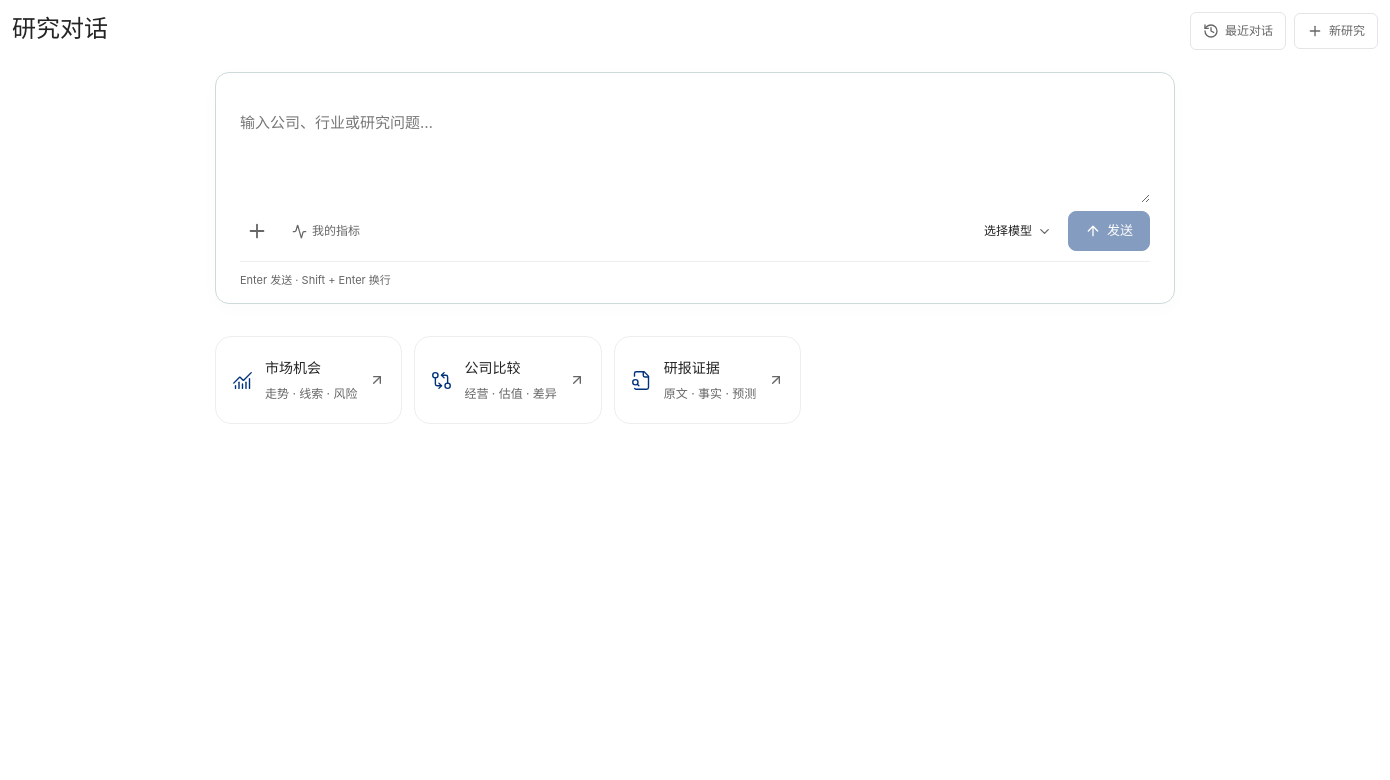
Scenario: keeps a new research conversation renderable after a metadata-only create when processing succeeded
In the text box named "研究要求": [695, 148] box [240,93,1150,203], type "核验公告来源"
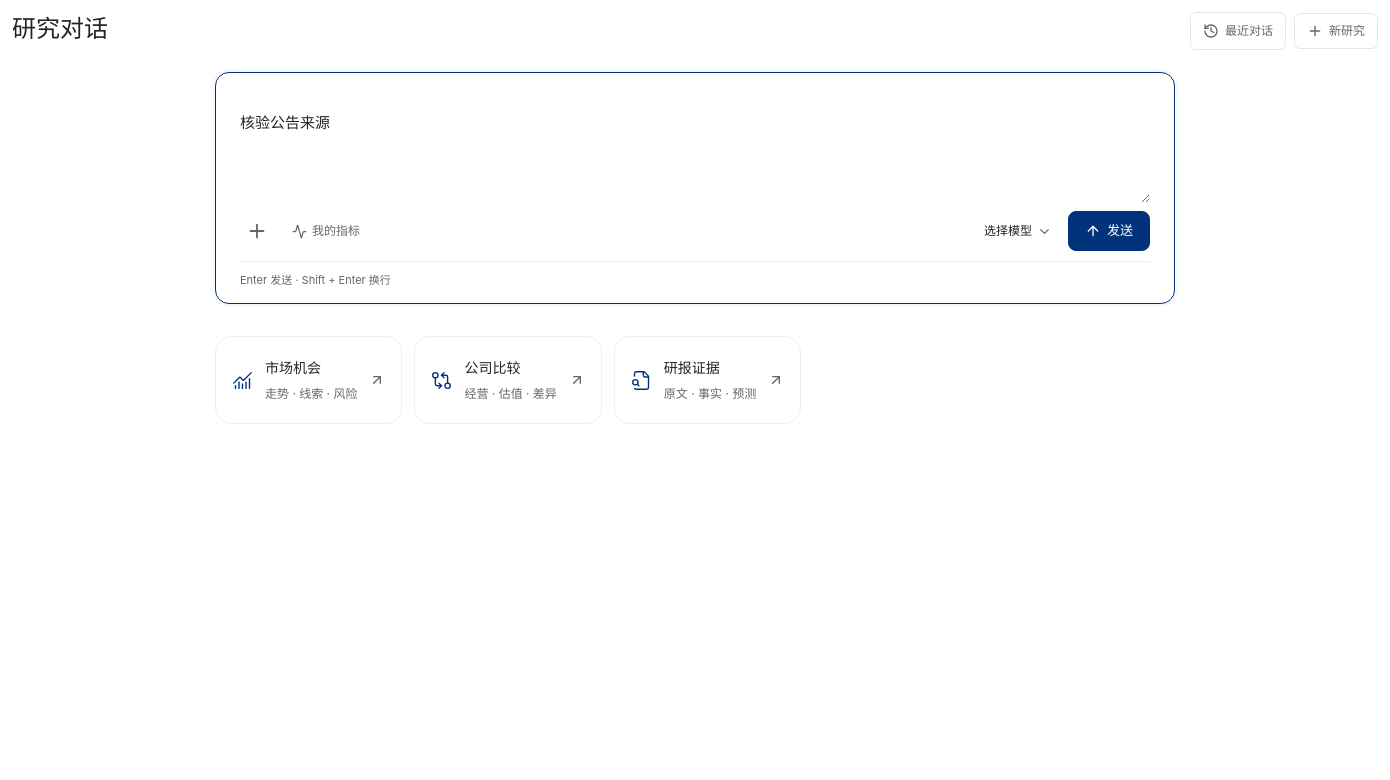
Click the button "发送": [1109, 231] box [1068,211,1150,251]
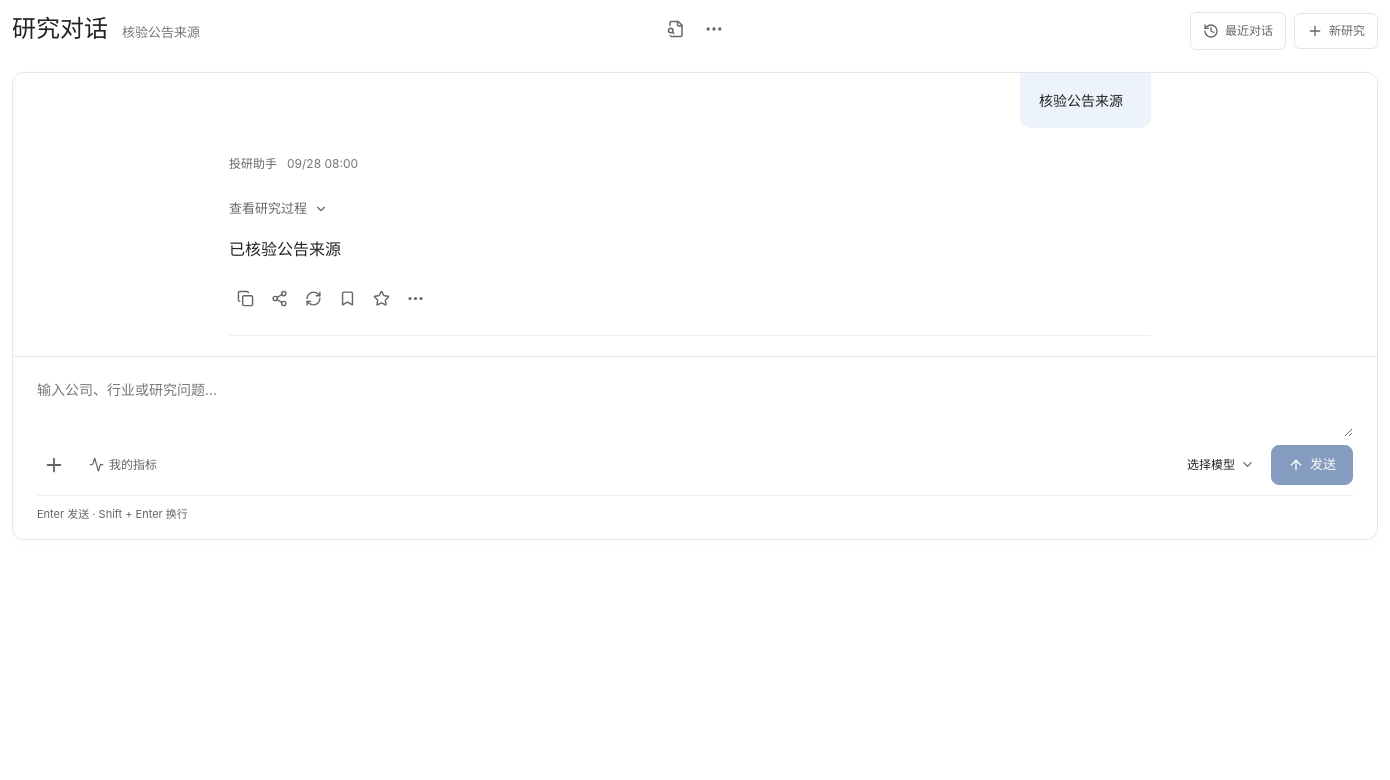
Expected: the heading "研究对话" is shown, [12,12,108,46]
Expected: the text "已核验公告来源" is shown, [229,239,341,259]
